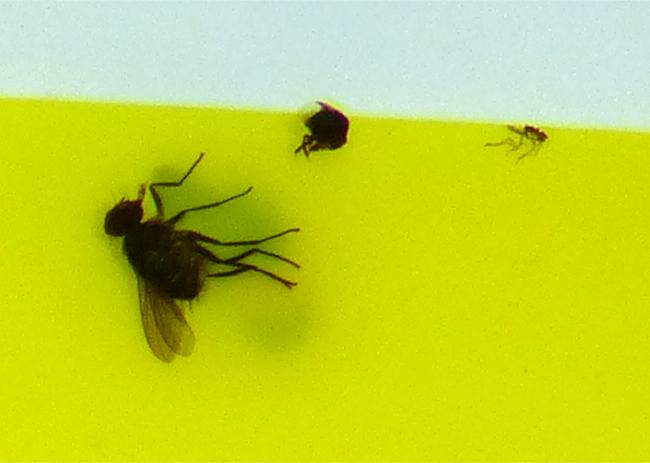Brachycera: (100, 151, 301, 363), (484, 122, 550, 161)
Hymenoptera: (292, 100, 352, 159)
